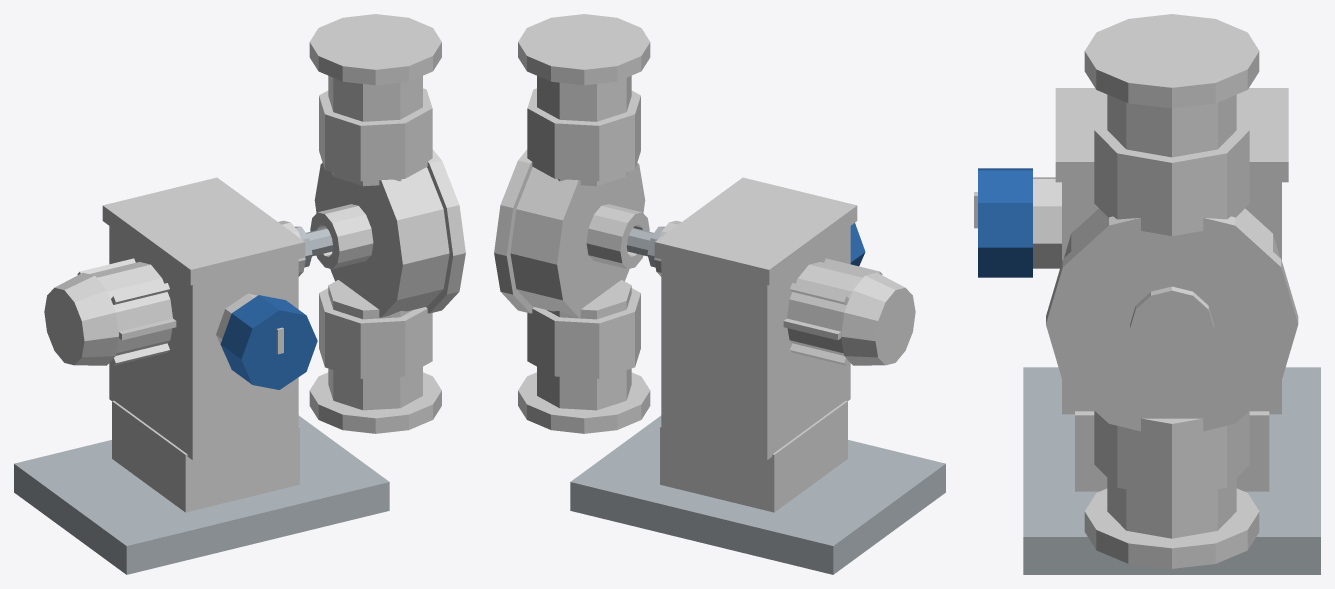
The model's file is pump-dosing.glb.
3 views of the same model, side by side, from view 1: azimuth 30°, elevation 25°; view 2: azimuth 150°, elevation 25°; view 3: azimuth 270°, elevation 25° (orthographic). The views are drawn at different scales.
Visible parts, largest first — view 1: foot, gearbox, gearbox.cap, head.body, gearbox.pedestal, out.flange, out.check.housing, in.check.housing, stroke.knob, motor.fan.cowl, in.stub, in.flange (+5 smaller); view 2: gearbox, foot, gearbox.cap, head.body, gearbox.pedestal, out.flange, out.check.housing, in.check.housing, motor.fan.cowl, in.stub, in.flange, motor.frame (+4 smaller); view 3: head.front.disc, foot, out.flange, out.check.housing, in.check.housing, gearbox.cap, in.flange, stroke.knob, out.stub, in.stub, head.centre.boss, gearbox (+3 smaller).
Boxes of the visible parts, x1,y1,x2,y2 form: foot: [14, 415, 389, 574]; gearbox: [109, 226, 298, 459]; gearbox.cap: [102, 177, 305, 285]; head.body: [314, 163, 449, 317]; gearbox.pedestal: [112, 400, 299, 512]; out.flange: [309, 14, 441, 85]; out.check.housing: [319, 88, 432, 181]; in.check.housing: [319, 288, 432, 378]; stroke.knob: [220, 295, 317, 389]; motor.fan.cowl: [44, 272, 118, 365]; in.stub: [328, 280, 422, 410]; in.flange: [309, 372, 441, 433]; gearbox: [661, 226, 850, 459]; foot: [570, 415, 945, 574]; gearbox.cap: [654, 177, 857, 285]; head.body: [510, 163, 645, 317]; gearbox.pedestal: [660, 400, 847, 512]; out.flange: [518, 14, 650, 85]; out.check.housing: [527, 88, 640, 181]; in.check.housing: [527, 288, 640, 378]; motor.fan.cowl: [841, 272, 915, 365]; in.stub: [537, 280, 631, 410]; in.flange: [518, 372, 650, 433]; motor.frame: [787, 262, 870, 361]; head.front.disc: [1046, 216, 1298, 431]; foot: [1023, 367, 1320, 574]; out.flange: [1084, 14, 1259, 108]; out.check.housing: [1094, 117, 1249, 236]; in.check.housing: [1094, 411, 1249, 497]; gearbox.cap: [1055, 88, 1288, 182]; in.flange: [1084, 488, 1259, 568]; stroke.knob: [978, 168, 1032, 277]; out.stub: [1107, 94, 1236, 157]; in.stub: [1107, 478, 1236, 538]; head.centre.boss: [1130, 286, 1214, 366]; gearbox: [1062, 182, 1281, 414].
Bounding box in the file's own units: 0.869 × 0.94 × 0.536.
